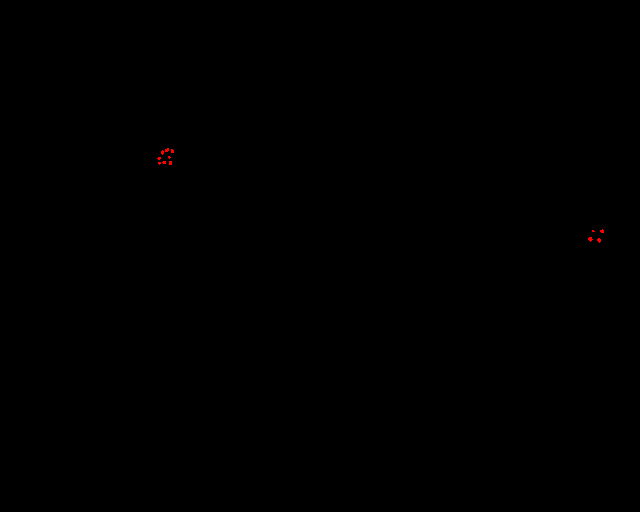Target: (588, 237, 593, 242), (597, 238, 601, 243), (165, 148, 169, 152), (600, 229, 604, 233), (161, 150, 164, 155), (171, 149, 174, 153), (157, 157, 161, 160), (162, 161, 166, 164), (169, 161, 172, 165), (168, 156, 171, 159), (158, 162, 161, 165), (592, 230, 595, 232)
